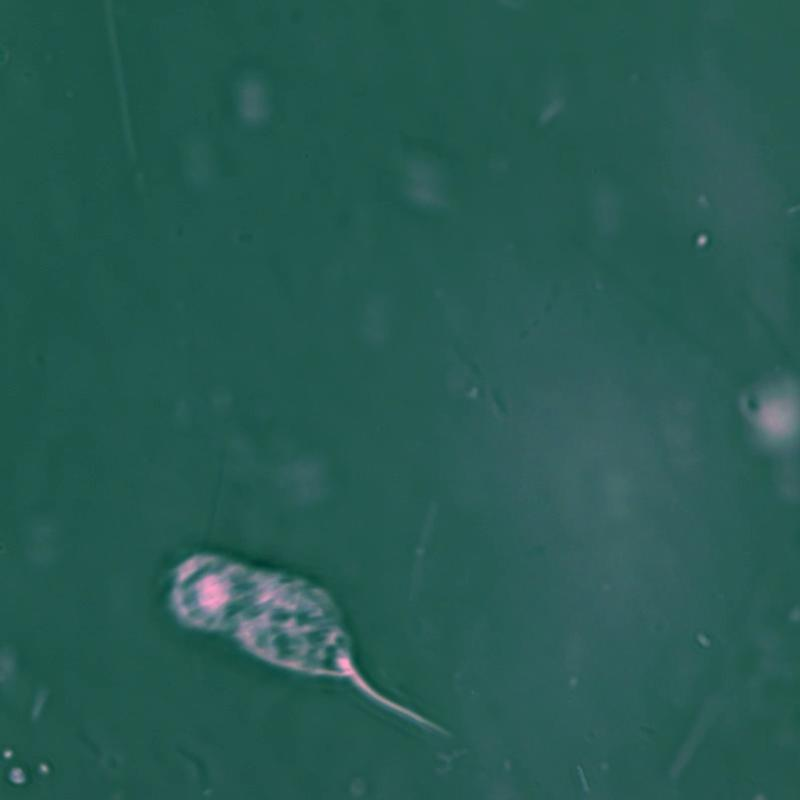depth:40: (122, 533, 477, 764)
